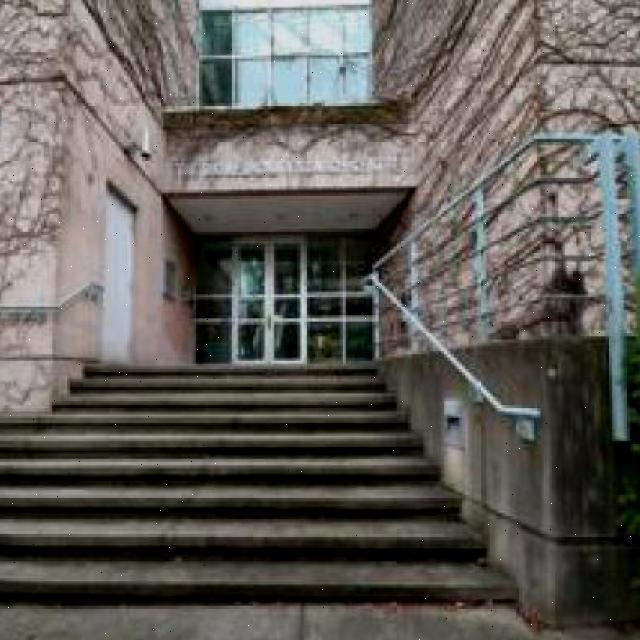stair: (29, 447, 454, 640)
